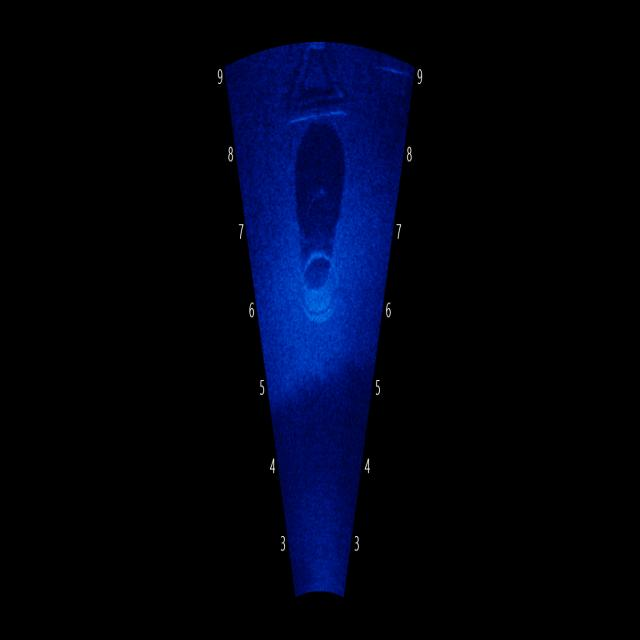circle: (291, 224, 355, 357)
triangle: (278, 38, 364, 134)
